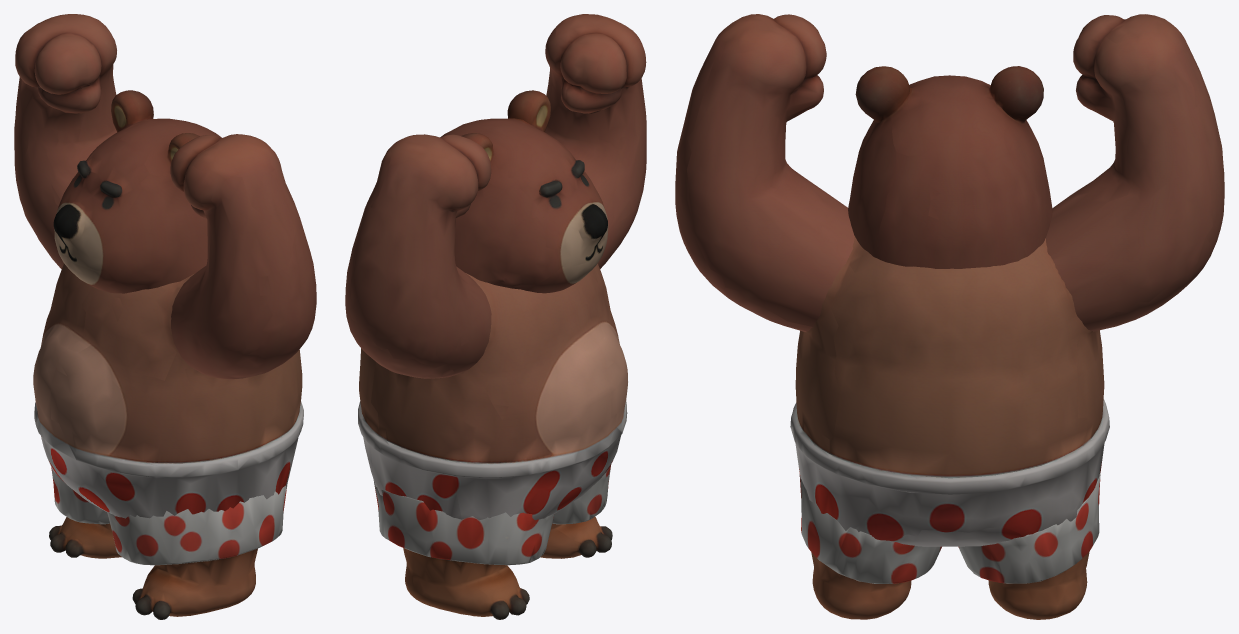
File: bearMuscular.glb
The picture shows the model from 3 angles, left to right: view 1: azimuth 30°, elevation 25°; view 2: azimuth 150°, elevation 25°; view 3: azimuth 270°, elevation 25°; orthographic projection. The views are drawn at different scales.
Parts seen in each view (by area): view 1: torso_geom, left arm_geom, head_geom, right arm_geom, left leg_geom, right leg_geom; view 2: torso_geom, right arm_geom, head_geom, left arm_geom, right leg_geom, left leg_geom; view 3: torso_geom, right arm_geom, left arm_geom, head_geom, right leg_geom, left leg_geom.
Boxes of the visible parts, left/top/right/bottom form: torso_geom: left=33, top=263, right=303, bottom=518; left arm_geom: left=170, top=134, right=316, bottom=379; head_geom: left=53, top=90, right=221, bottom=293; right arm_geom: left=14, top=14, right=116, bottom=268; left leg_geom: left=107, top=483, right=287, bottom=619; right leg_geom: left=49, top=467, right=121, bottom=558; torso_geom: left=358, top=263, right=627, bottom=520; right arm_geom: left=345, top=134, right=491, bottom=378; head_geom: left=440, top=90, right=608, bottom=293; left arm_geom: left=545, top=14, right=646, bottom=268; right leg_geom: left=373, top=480, right=554, bottom=619; left leg_geom: left=540, top=465, right=612, bottom=558; torso_geom: left=790, top=235, right=1109, bottom=546; right arm_geom: left=1046, top=14, right=1224, bottom=331; left arm_geom: left=675, top=14, right=854, bottom=331; head_geom: left=848, top=66, right=1052, bottom=268; right leg_geom: left=958, top=472, right=1100, bottom=619; left leg_geom: left=799, top=474, right=941, bottom=619.
Bounding box in the file's own units: 3.41 × 6.88 × 6.
Materials: 6 (6 with a texture image).
